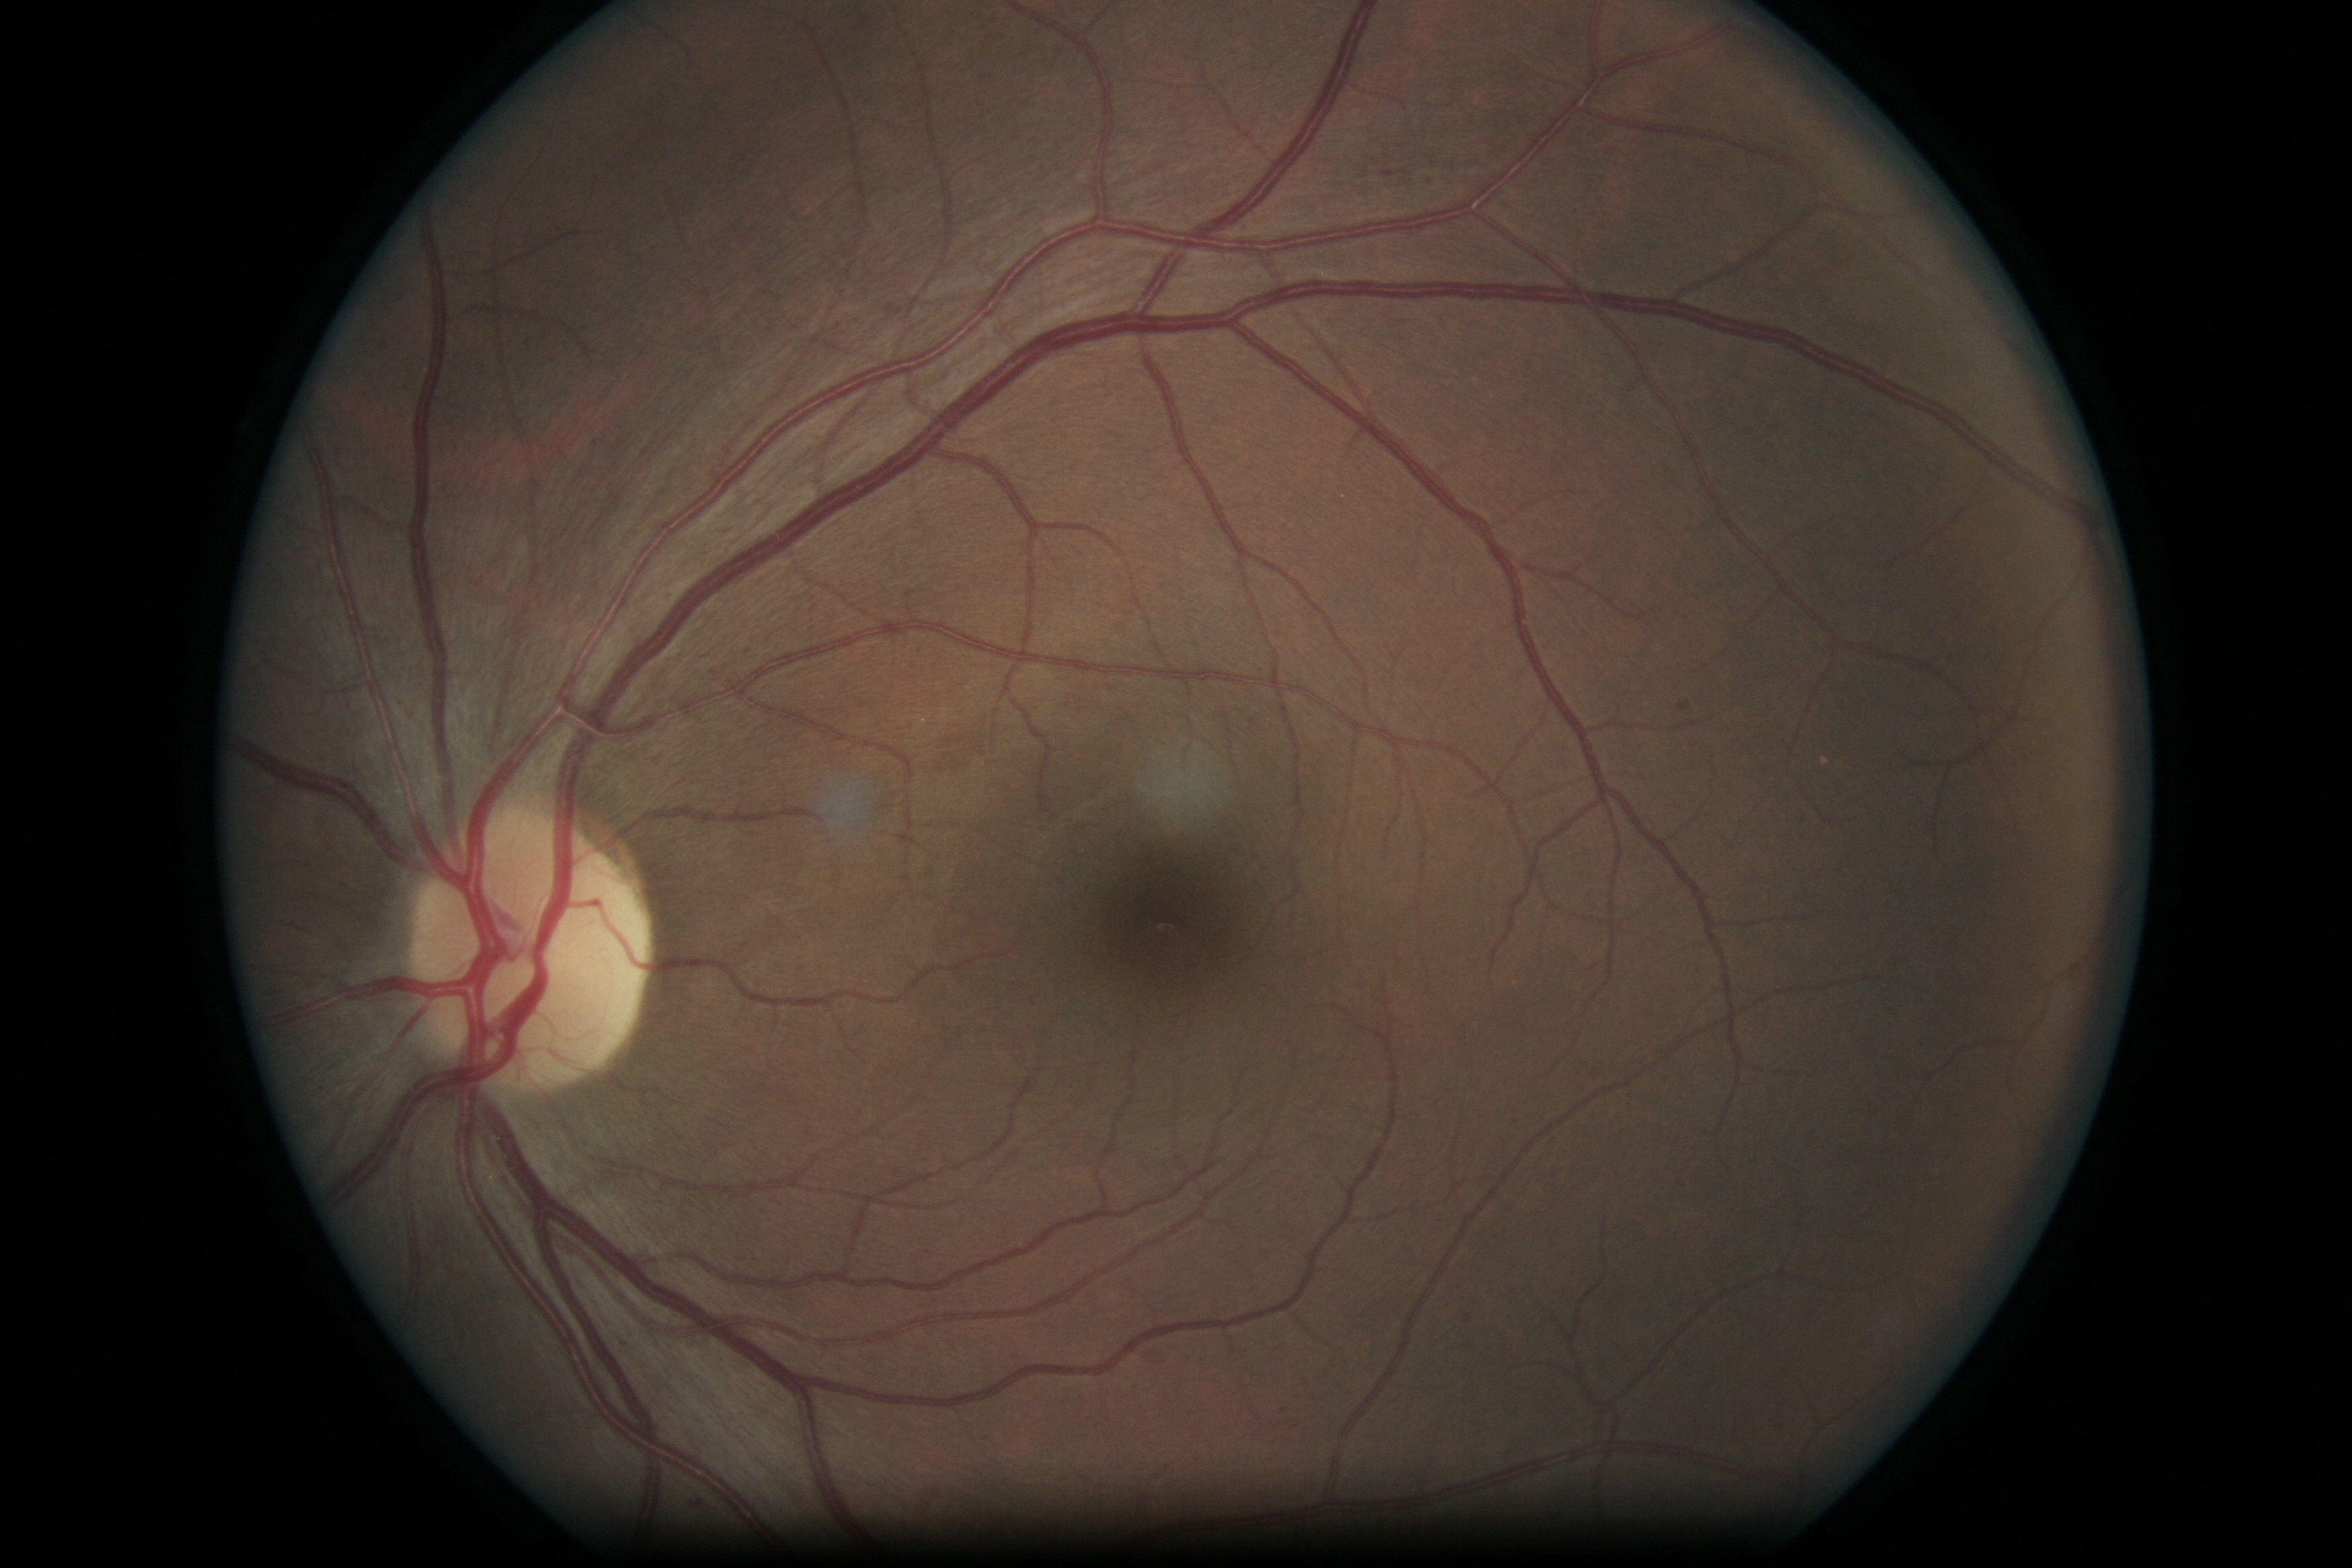Fovea: (1066, 831, 1270, 1024)
OD: (382, 796, 660, 1118)
